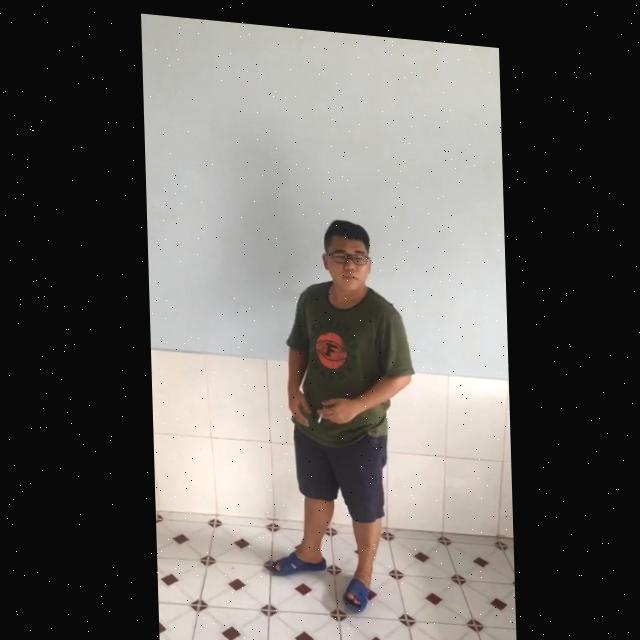cigarette: (315, 399, 323, 418)
